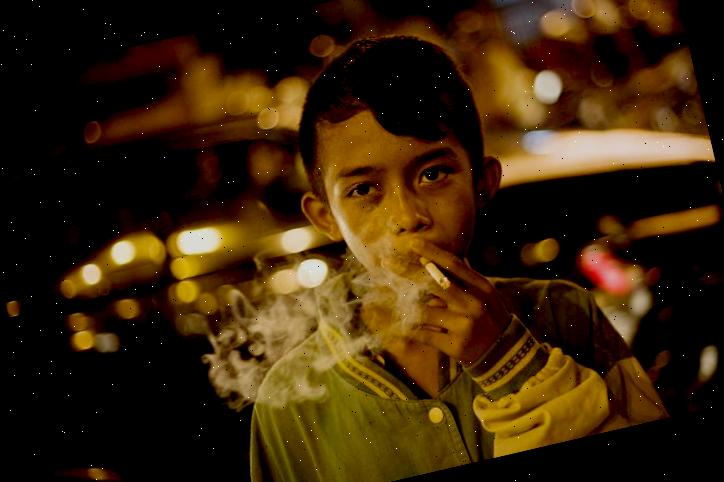smoke: (186, 245, 437, 429)
